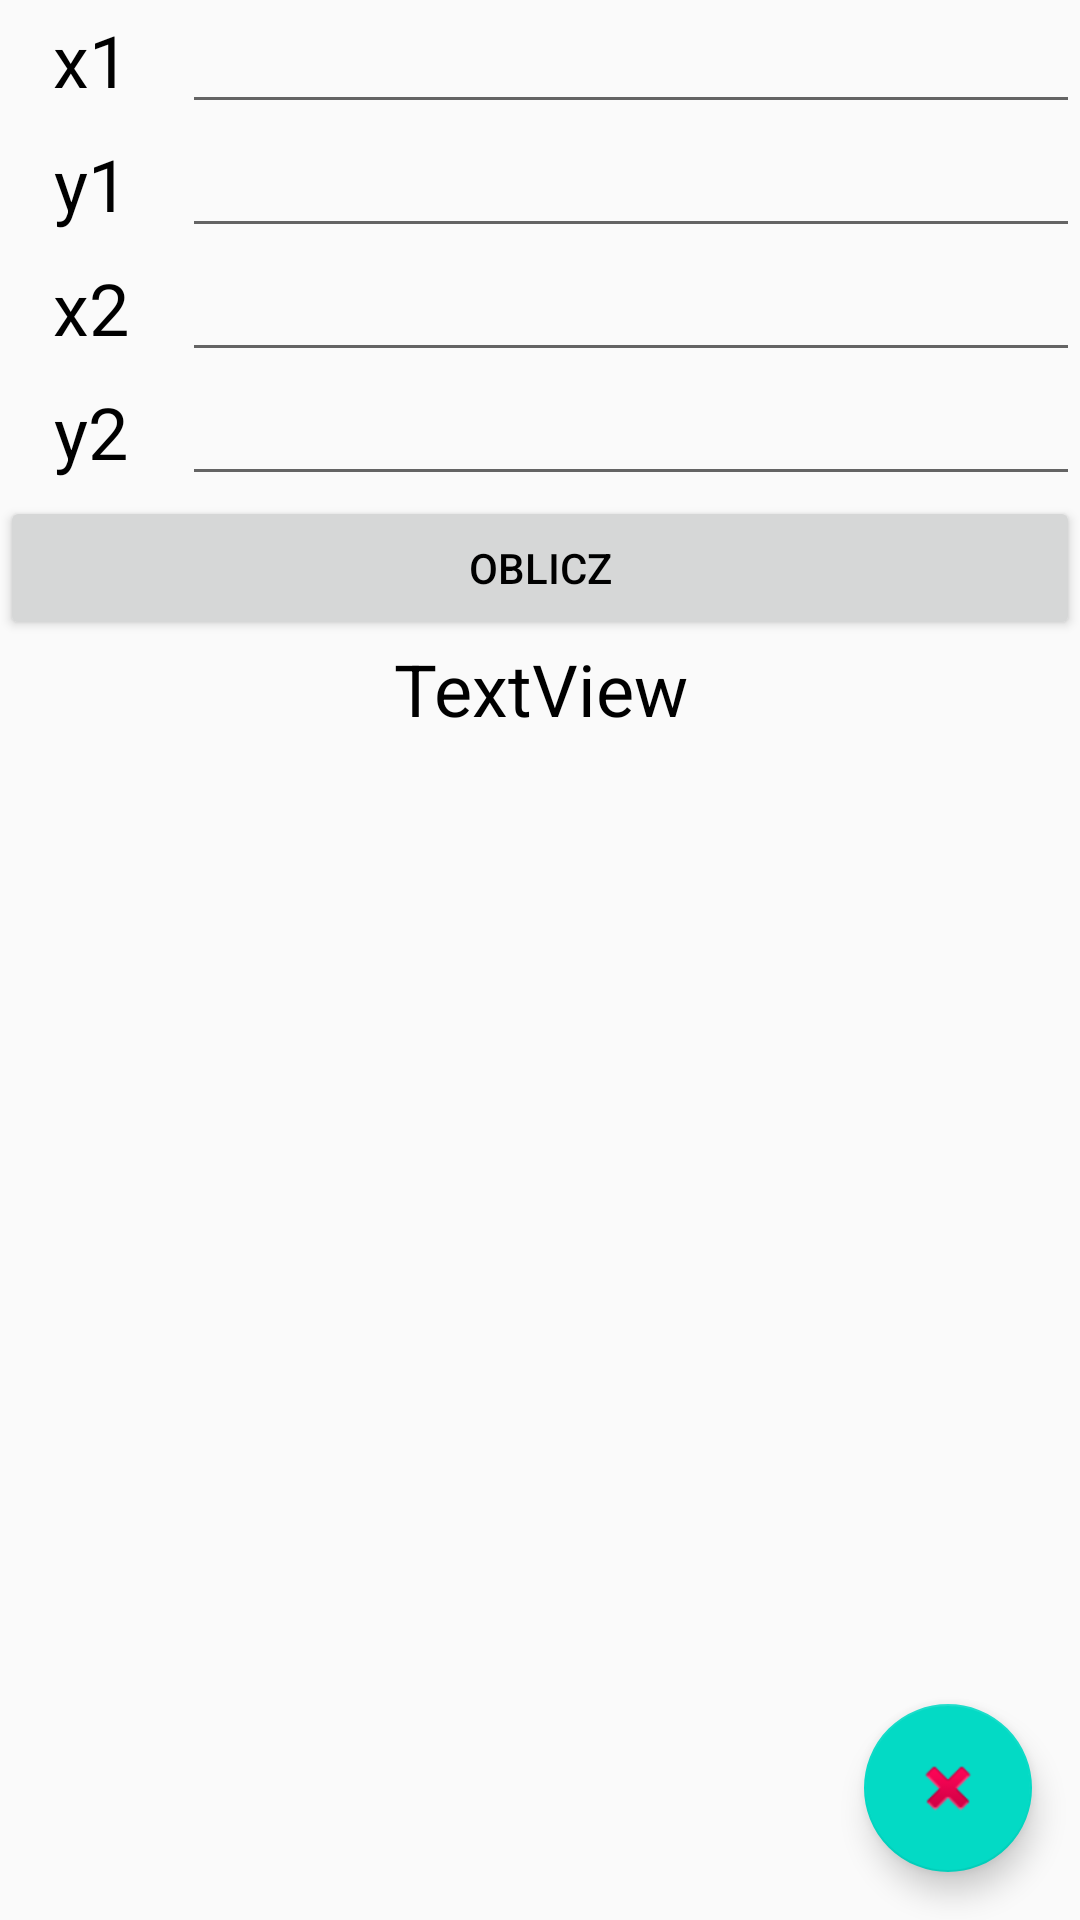

Icons on this 1080x1920 Android screen, each with the point to tap as (x,y):
delete: (948,1788)
